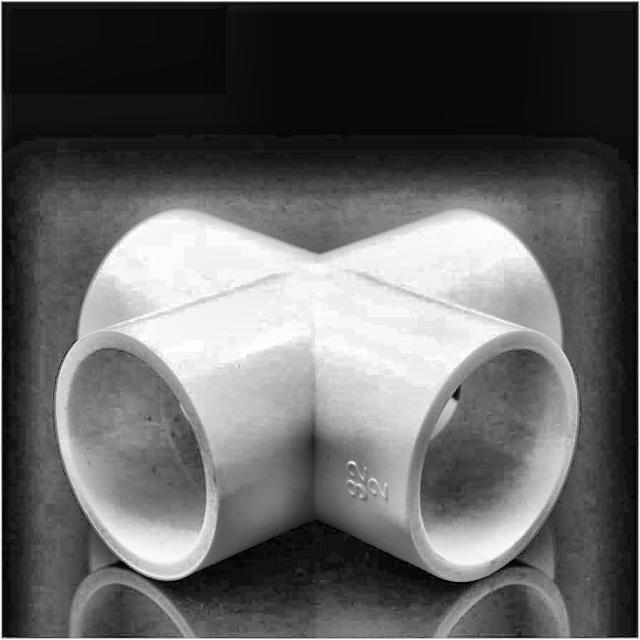EQUALCROSS: (54, 209, 581, 585)
